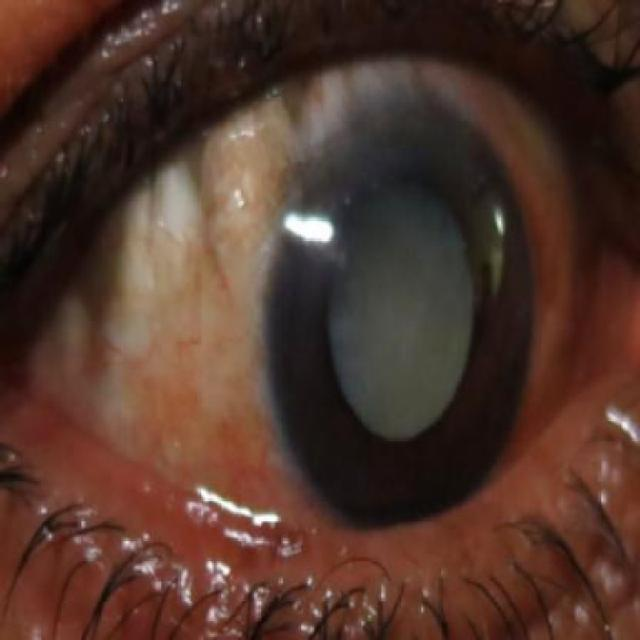Cataract: (258, 96, 535, 537)
